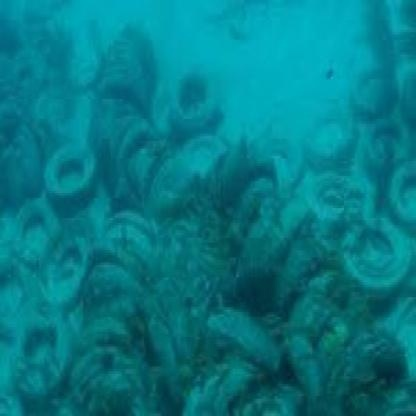tire: (157, 45, 262, 188), (26, 132, 115, 230), (331, 193, 416, 287), (308, 166, 369, 262), (14, 300, 75, 396), (36, 242, 96, 294)
